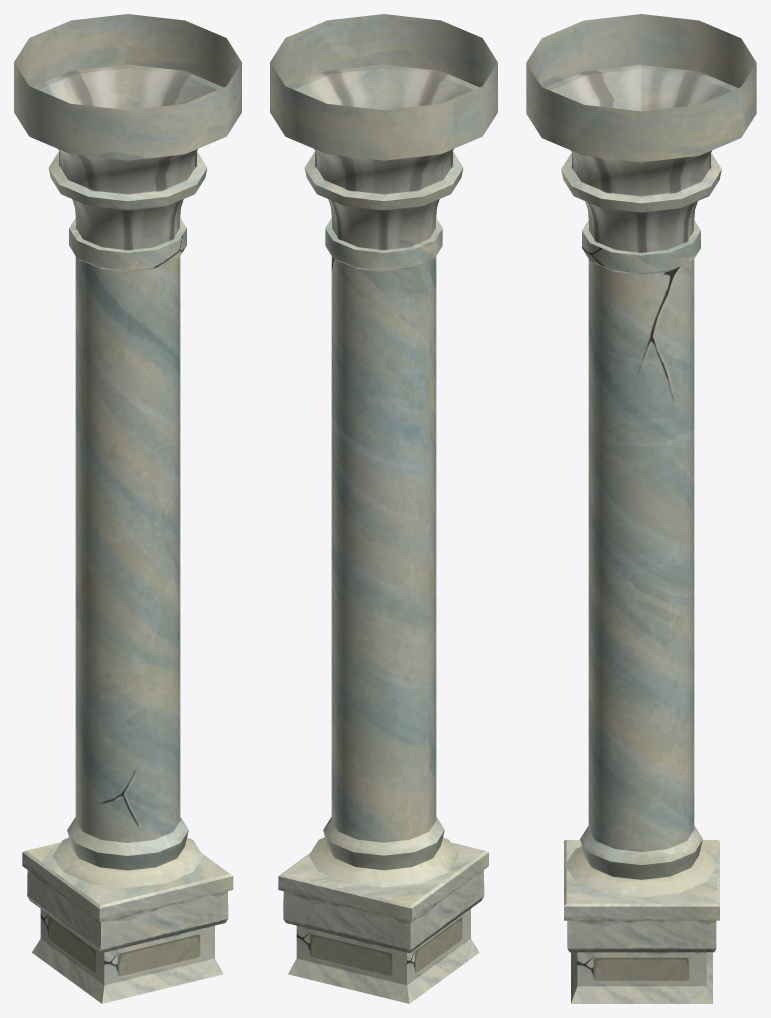
The model's file is pillar 2.fbx.
3 renders of one model, left to right at view 1: azimuth 30°, elevation 25°; view 2: azimuth 150°, elevation 25°; view 3: azimuth 270°, elevation 25°, orthographic.
Parts seen in each view (by area): view 1: pillar.002; view 2: pillar.002; view 3: pillar.002.
Boxes of the visible parts, x1,y1,x2,y2 form: pillar.002: [14, 14, 241, 1003]; pillar.002: [270, 14, 497, 1003]; pillar.002: [526, 14, 756, 1003].
Bounding box in the file's own units: 190 × 829 × 190.
